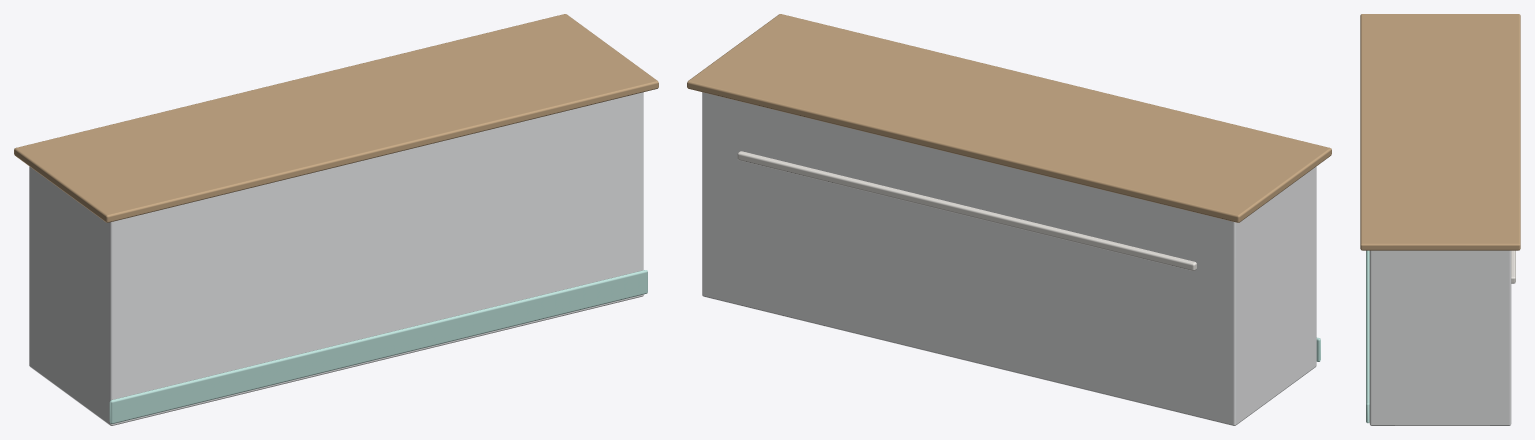
File: SM_ReceptionDesk.fbx
3 views of the same model, side by side, from view 1: azimuth 30°, elevation 25°; view 2: azimuth 150°, elevation 25°; view 3: azimuth 270°, elevation 25° (orthographic). The views are drawn at different scales.
Visible parts, largest first — view 1: SM_ReceptionDesk; view 2: SM_ReceptionDesk; view 3: SM_ReceptionDesk.
Part boxes in pixels (<box>): SM_ReceptionDesk: <box>14,14,658,425</box>; SM_ReceptionDesk: <box>687,14,1331,425</box>; SM_ReceptionDesk: <box>1360,14,1520,425</box>.
Size of the model in its own units: 2.9 by 1.09 by 0.85.
